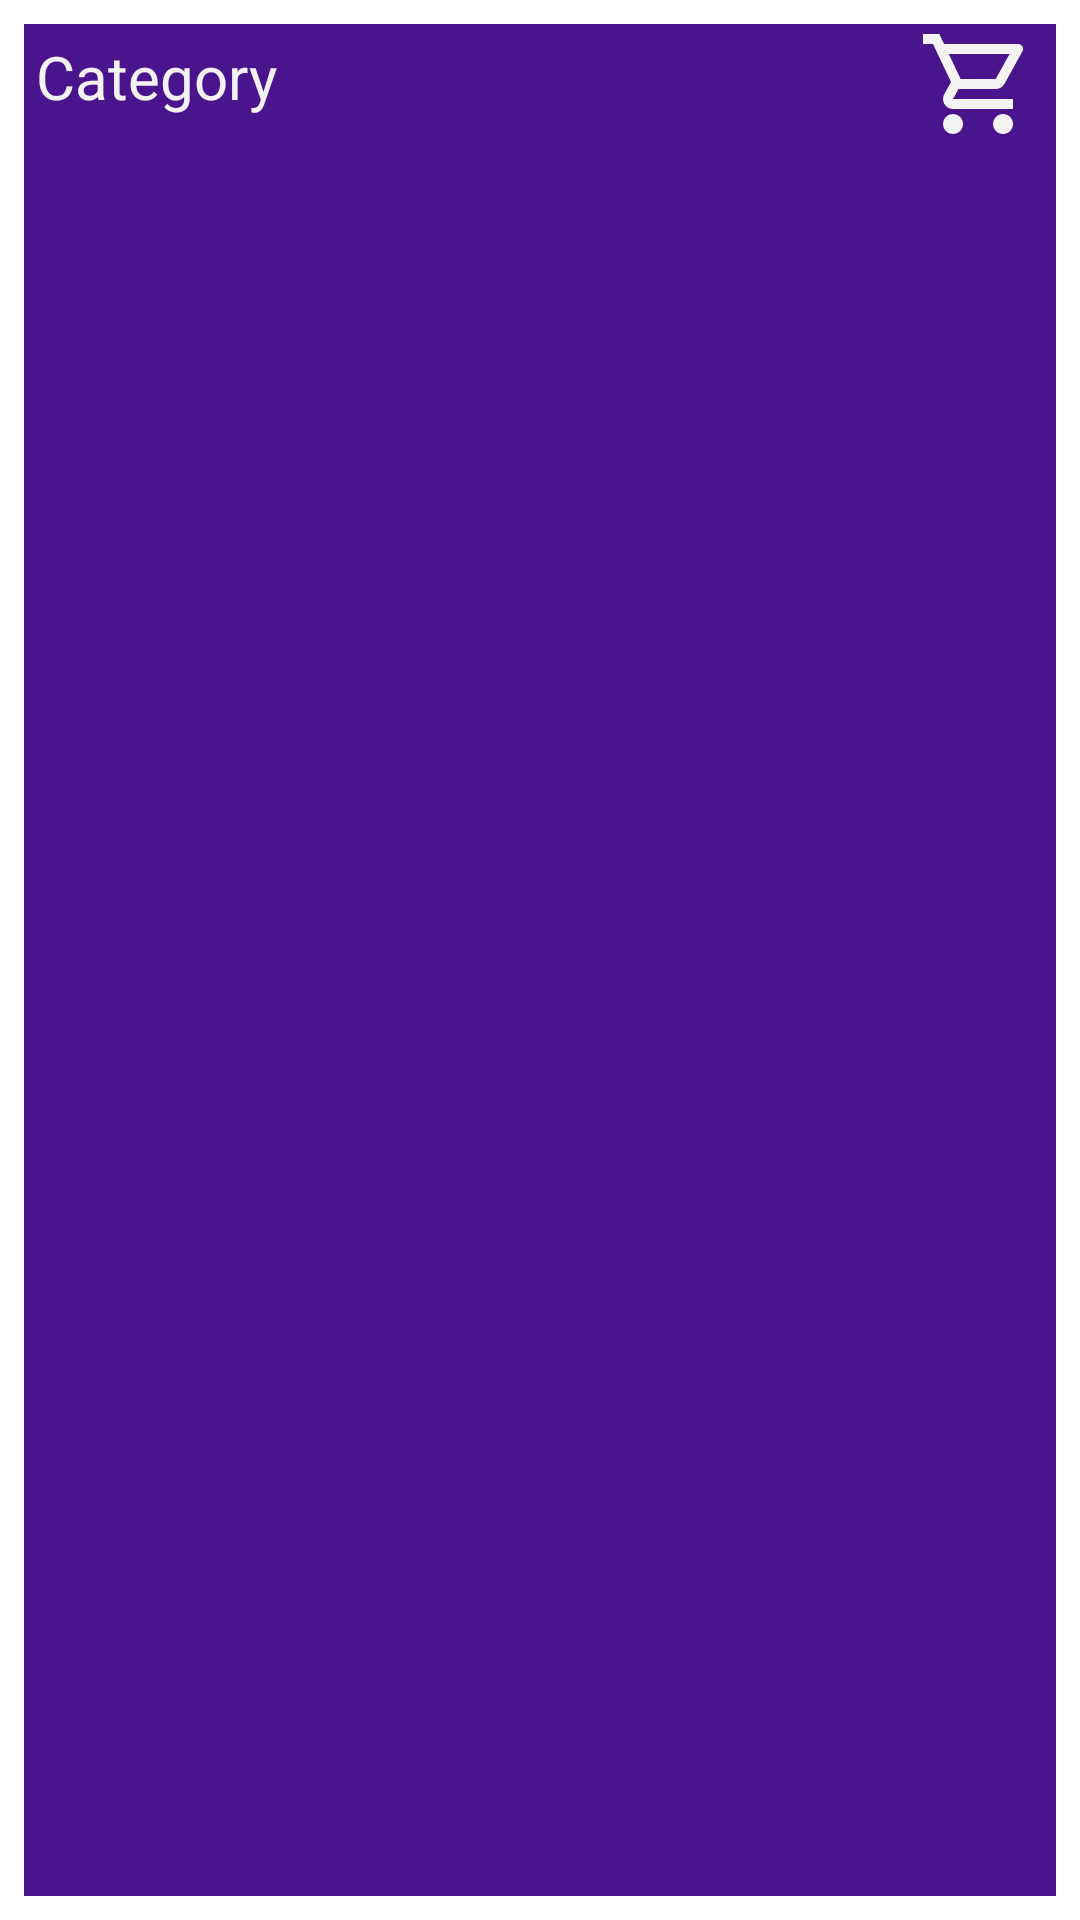

Icons on this 1080px x 1920px Android screen, each with the point to tap as point (x, y):
shopping cart: point (973, 84)
